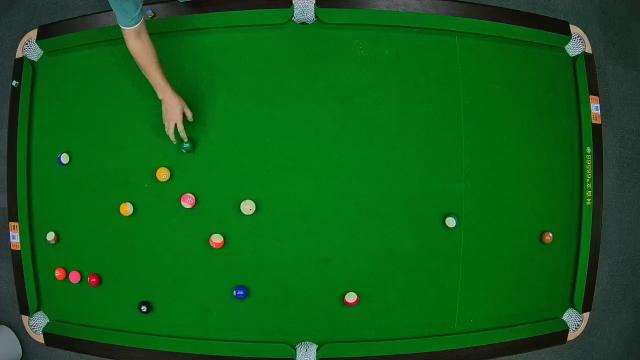bag1: (22, 38, 40, 58)
bag2: (293, 1, 317, 26)
bag3: (566, 32, 586, 56)
bag4: (28, 310, 48, 332)
bag5: (294, 340, 318, 360)
bag6: (561, 308, 583, 330)
ball0: (240, 199, 256, 216)
ball1: (156, 167, 172, 183)
ball10: (57, 152, 71, 167)
ball11: (344, 292, 358, 307)
ball12: (180, 192, 196, 208)
ball13: (210, 233, 224, 249)
ball14: (445, 213, 459, 227)
ball15: (44, 230, 60, 246)
ball2: (233, 284, 249, 300)
ball3: (88, 272, 100, 288)
ball4: (68, 270, 82, 284)
ball5: (55, 267, 67, 281)
ball6: (180, 137, 194, 153)
ball7: (540, 231, 554, 245)
ball8: (138, 300, 152, 314)
ball9: (120, 202, 134, 218)
